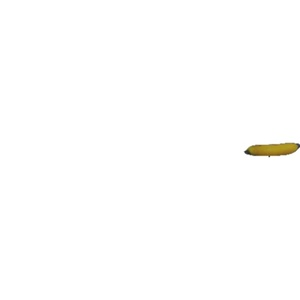banana: (243, 138, 298, 161)
